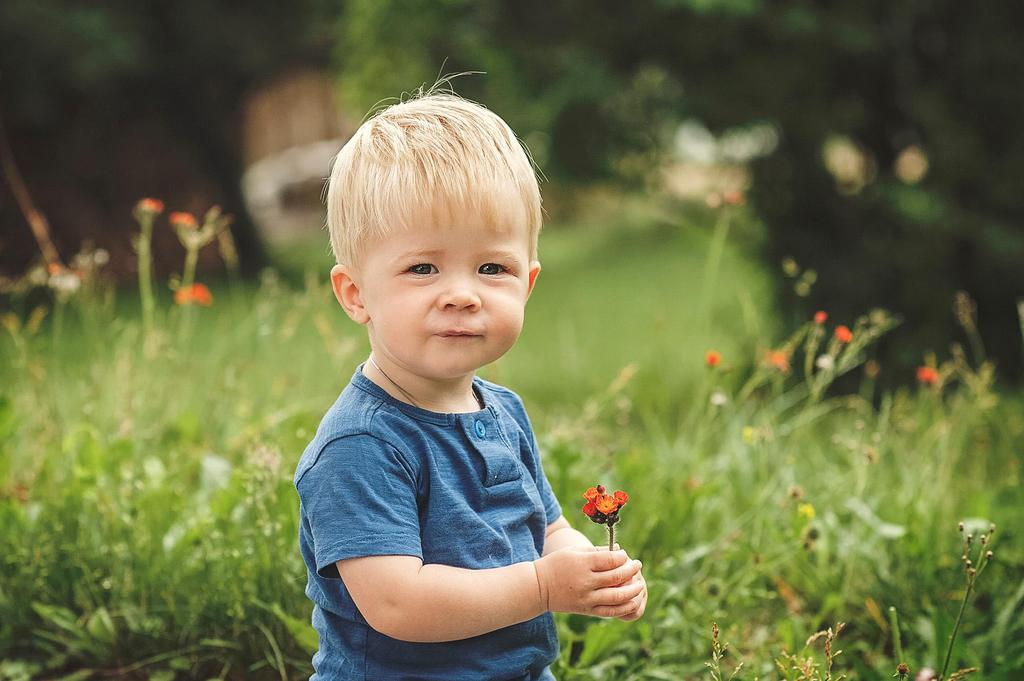child: (254, 76, 658, 679)
